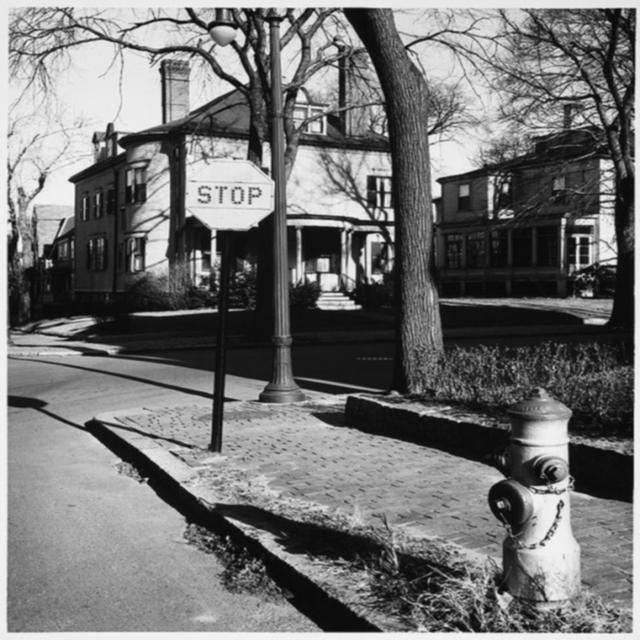fire_hydrant: (477, 383, 585, 599)
pole: (259, 11, 305, 400), (206, 232, 238, 448)
